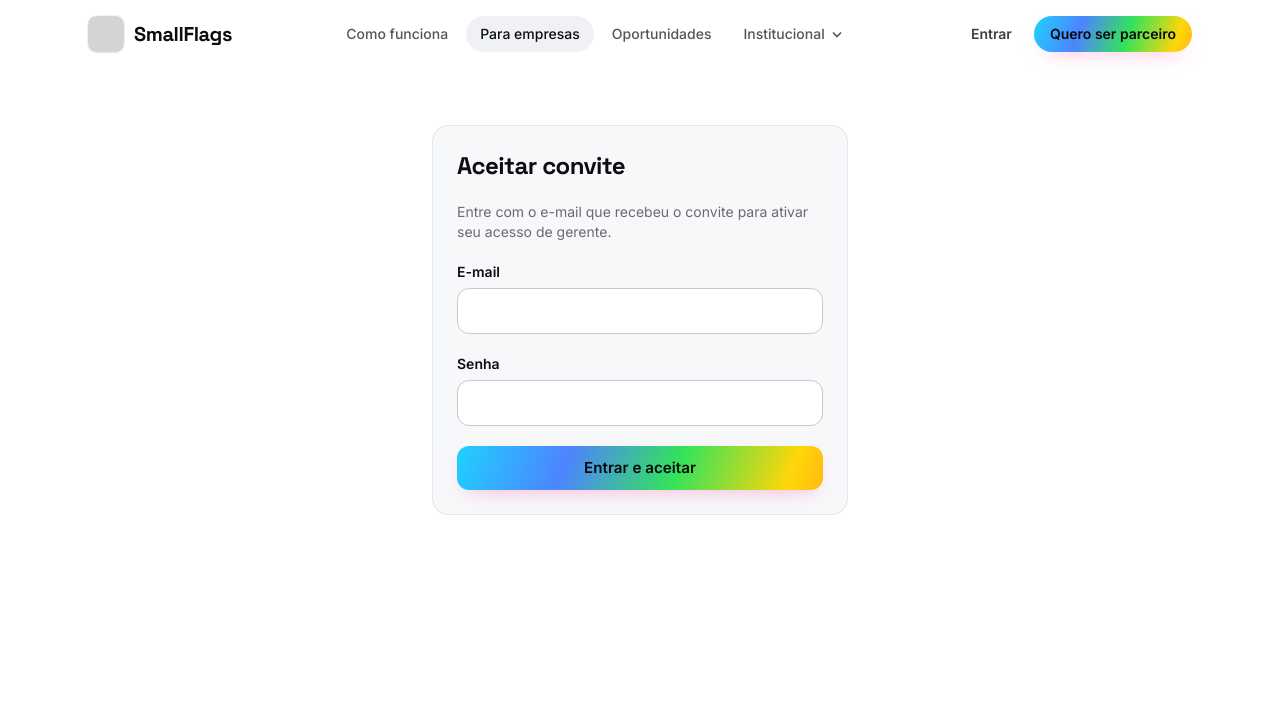
Test: R16_MANAGER_INVITE_ACCEPTANCE_UI — autenticação › login inválido não revela se o e-mail existe nem quem foi convidado
Type "a@b.com.br" into the field labelled "E-mail". click: {"x": 640, "y": 311}
box: left=457, top=288, right=823, bottom=334
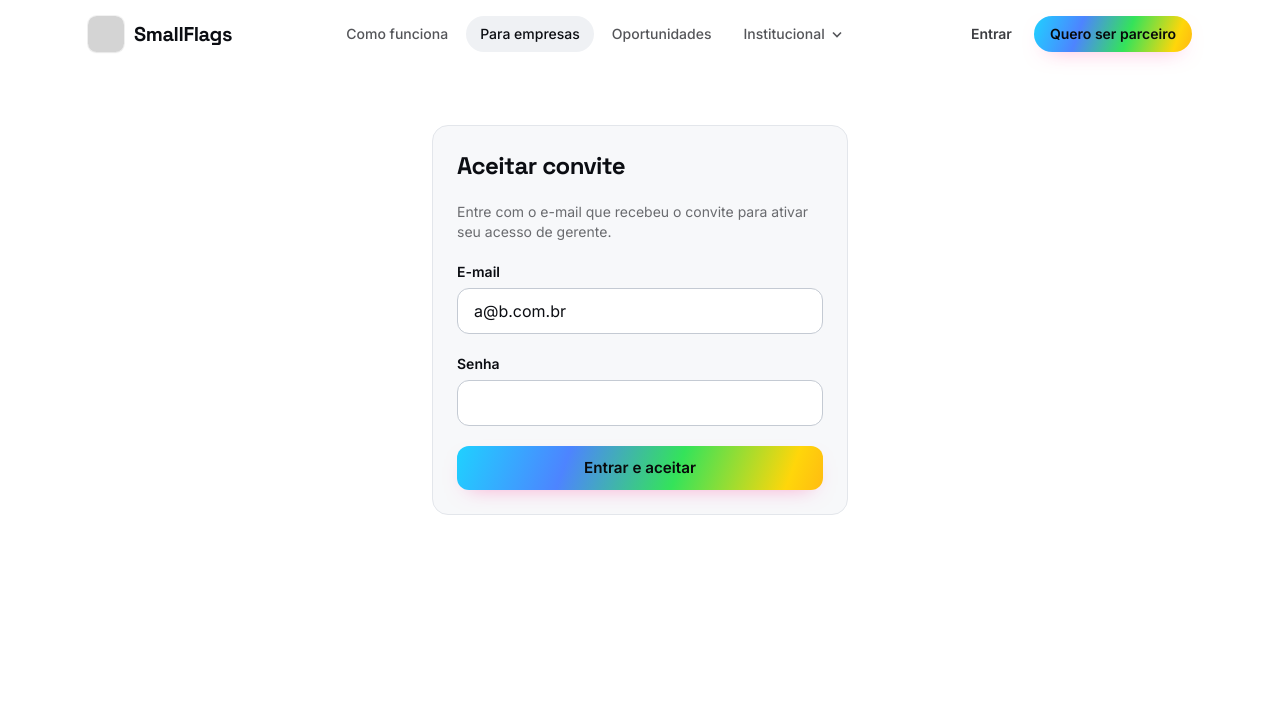
Type "senha-forte-1" into the password field labelled "Senha". click: {"x": 640, "y": 403}
box: left=457, top=380, right=823, bottom=426
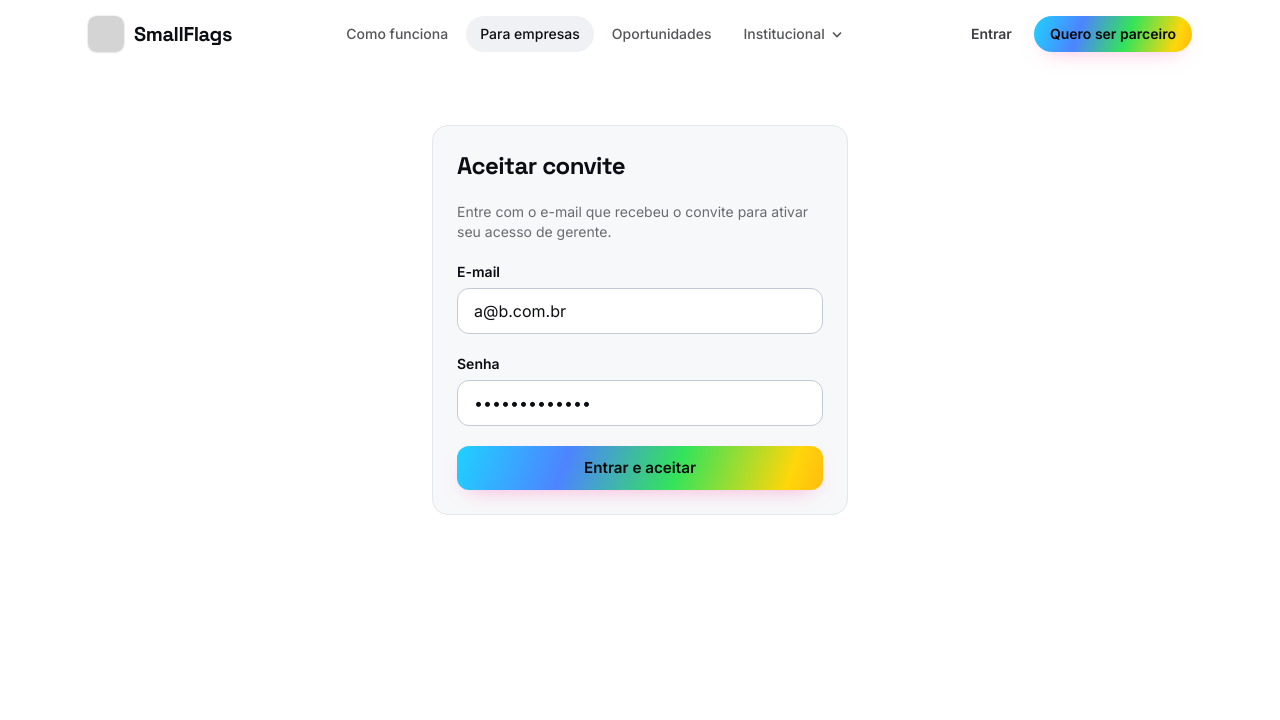
Click the button "Entrar e aceitar". click: {"x": 640, "y": 468}
box: left=457, top=446, right=823, bottom=490
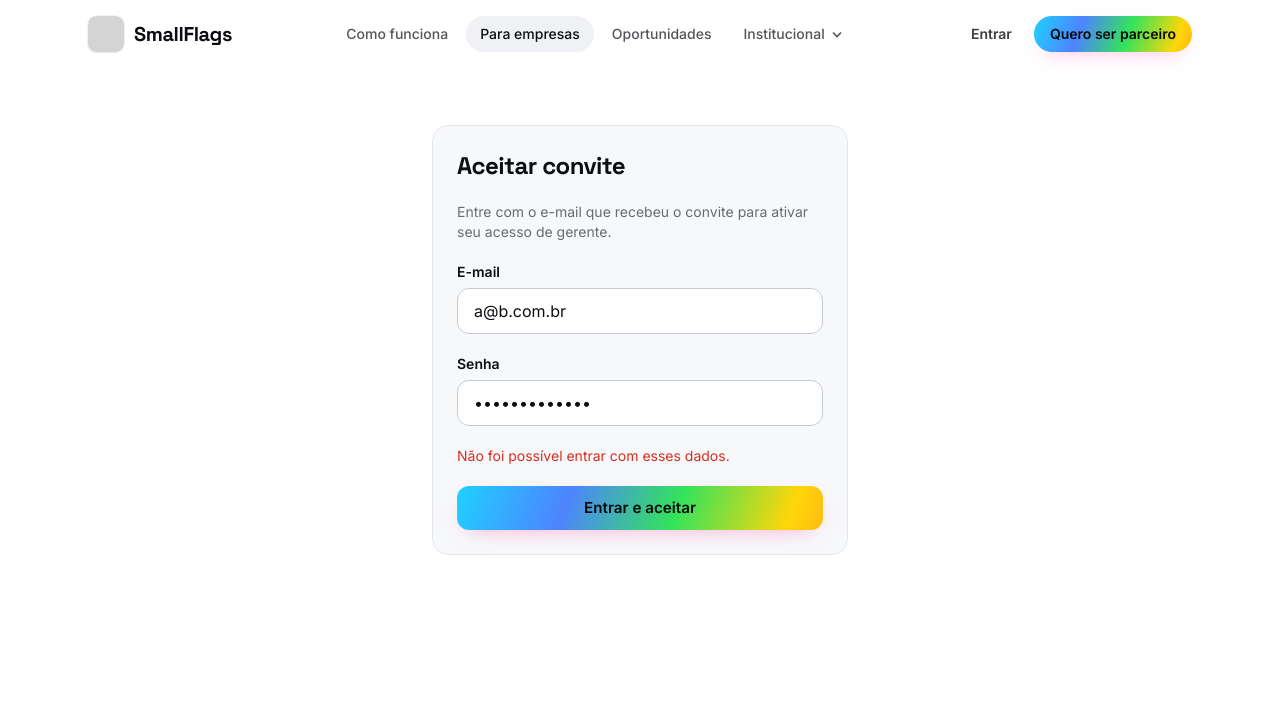
Expected: the text "Não foi possível entrar com esses dados." is shown, left=457, top=447, right=730, bottom=464
